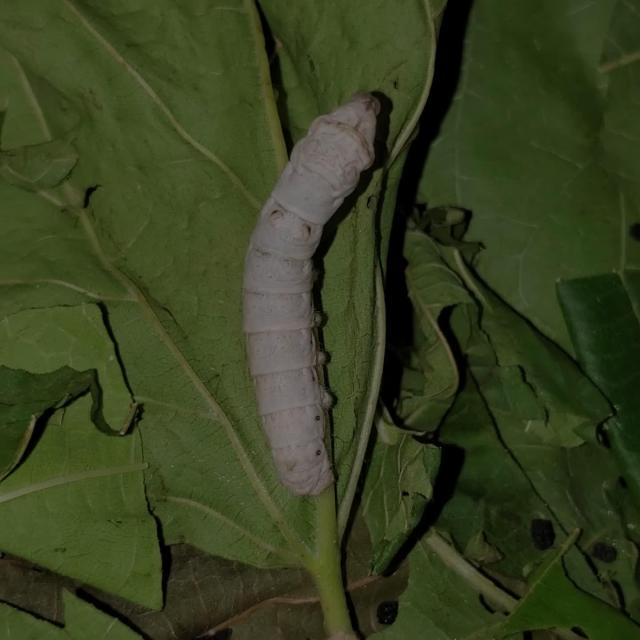Healthy: (224, 70, 425, 539)
